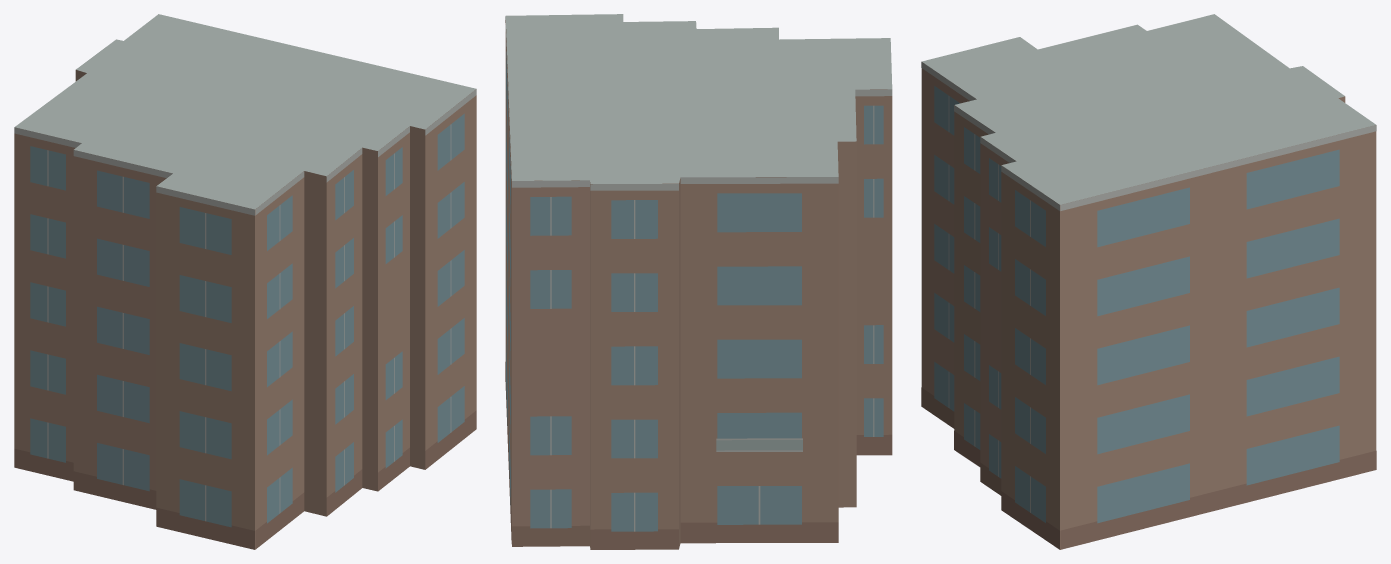
File: survey-upis-32526493.glb
The picture shows the model from 3 angles, left to right: view 1: azimuth 30°, elevation 25°; view 2: azimuth 150°, elevation 25°; view 3: azimuth 270°, elevation 25°; orthographic projection. The views are drawn at different scales.
Visible parts, largest first — view 1: survey-upis-32526493.tmp; view 2: survey-upis-32526493.tmp; view 3: survey-upis-32526493.tmp.
Part boxes in pixels (<box>): survey-upis-32526493.tmp: <box>14,14,476,549</box>; survey-upis-32526493.tmp: <box>505,14,892,549</box>; survey-upis-32526493.tmp: <box>921,14,1376,549</box>.
Bounding box in the file's own units: 15.67 × 13.2 × 15.79.
